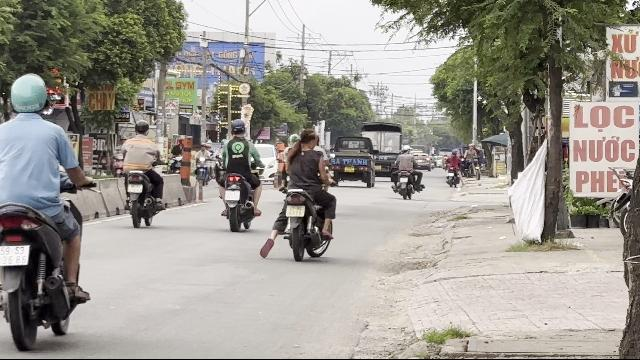helmet: (7, 73, 49, 117), (230, 118, 246, 138), (133, 119, 149, 135)
licenseplate: (0, 244, 28, 264), (286, 205, 306, 217), (224, 191, 240, 201), (128, 185, 142, 194)
motorcyclist: (0, 71, 92, 347), (269, 126, 337, 262), (215, 117, 263, 231), (118, 119, 166, 227)
nohelmet: (299, 128, 317, 148)
